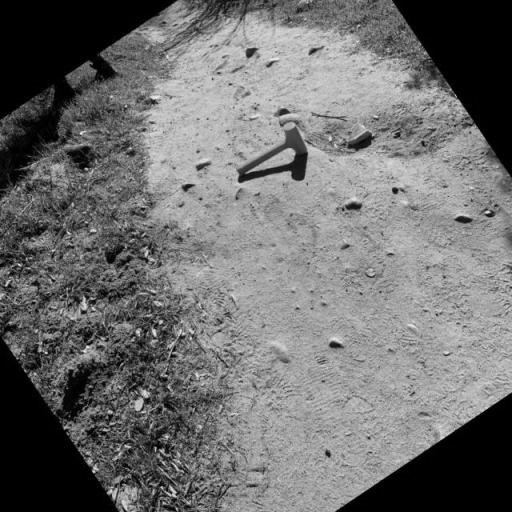mallet: (230, 118, 313, 191)
